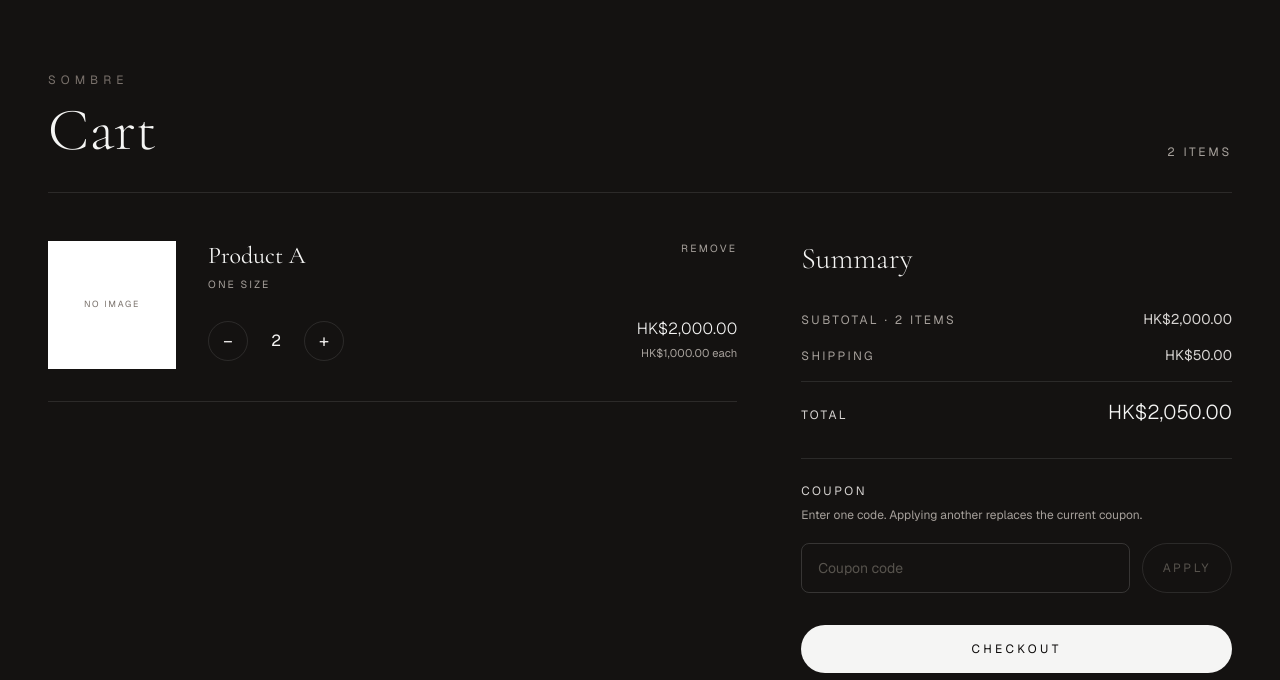
Test case: Cart coupon interface › removes the coupon and restores original cart totals
In the field labelled "Coupon code": (965, 568) [801, 543, 1130, 593], type "sombre"
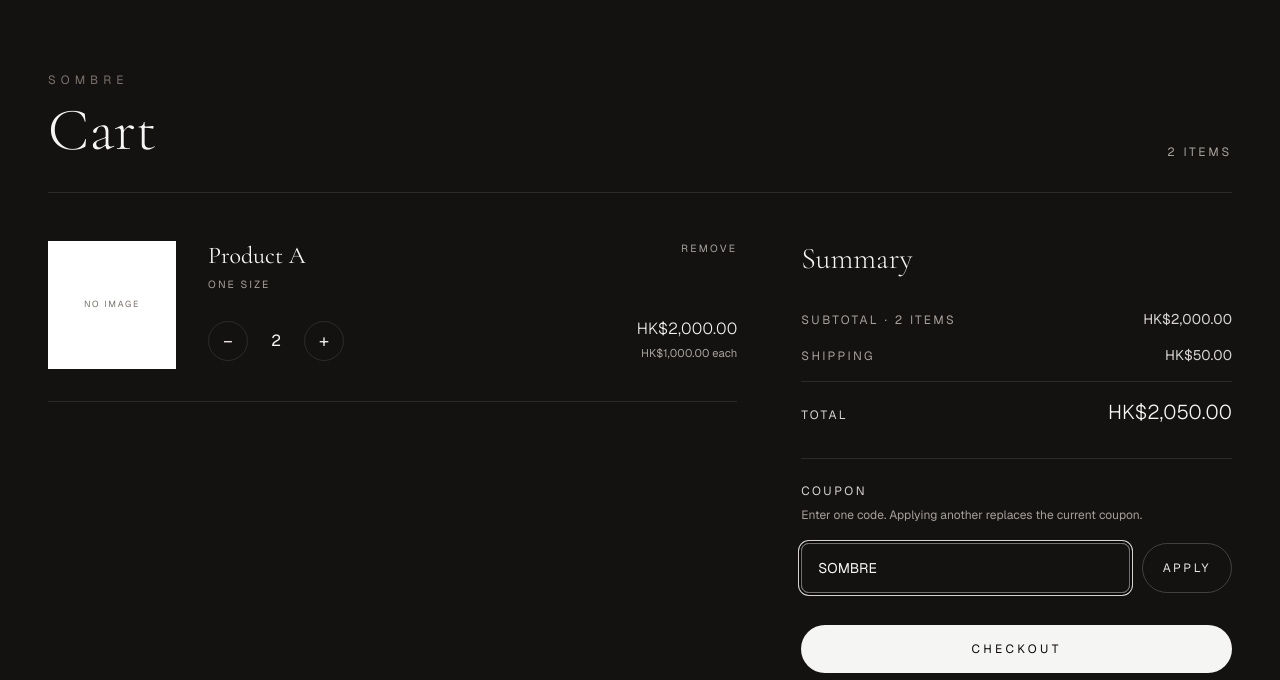
Click the button "Apply": click(1187, 568) [1142, 543, 1232, 593]
(page scrolled)
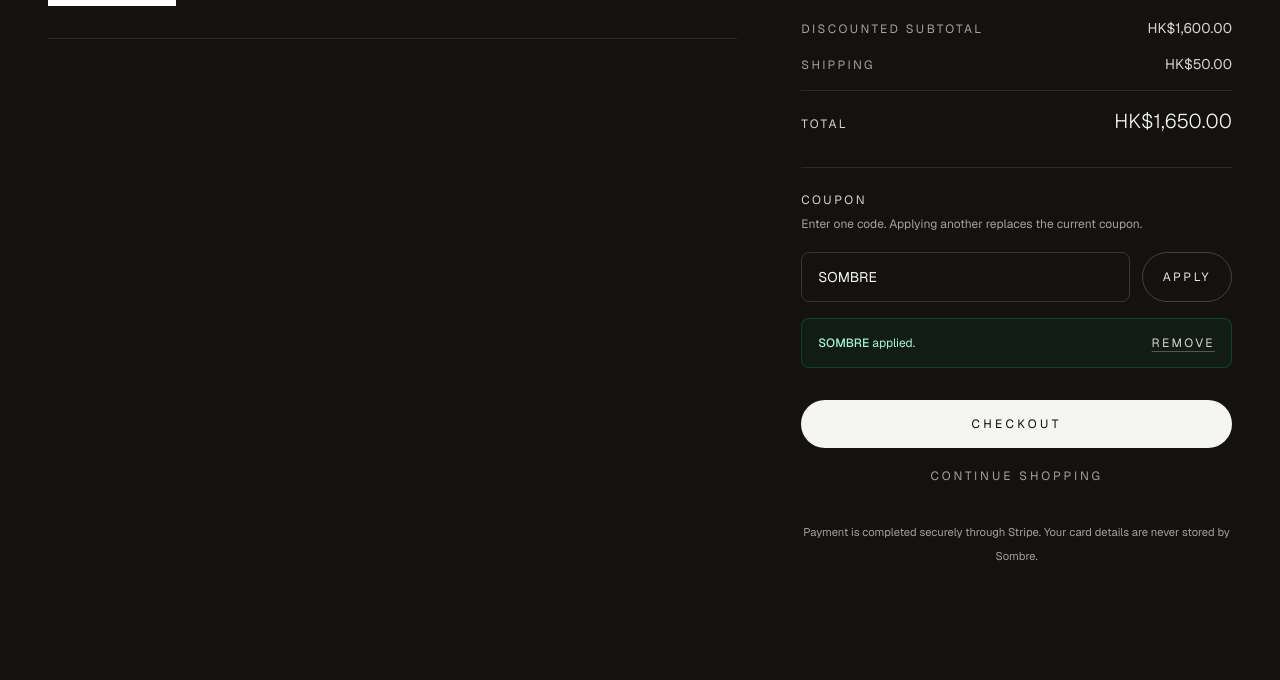
Click the button with aria-label "Remove SOMBRE coupon": click(1183, 343) [1152, 335, 1215, 351]
(page scrolled)
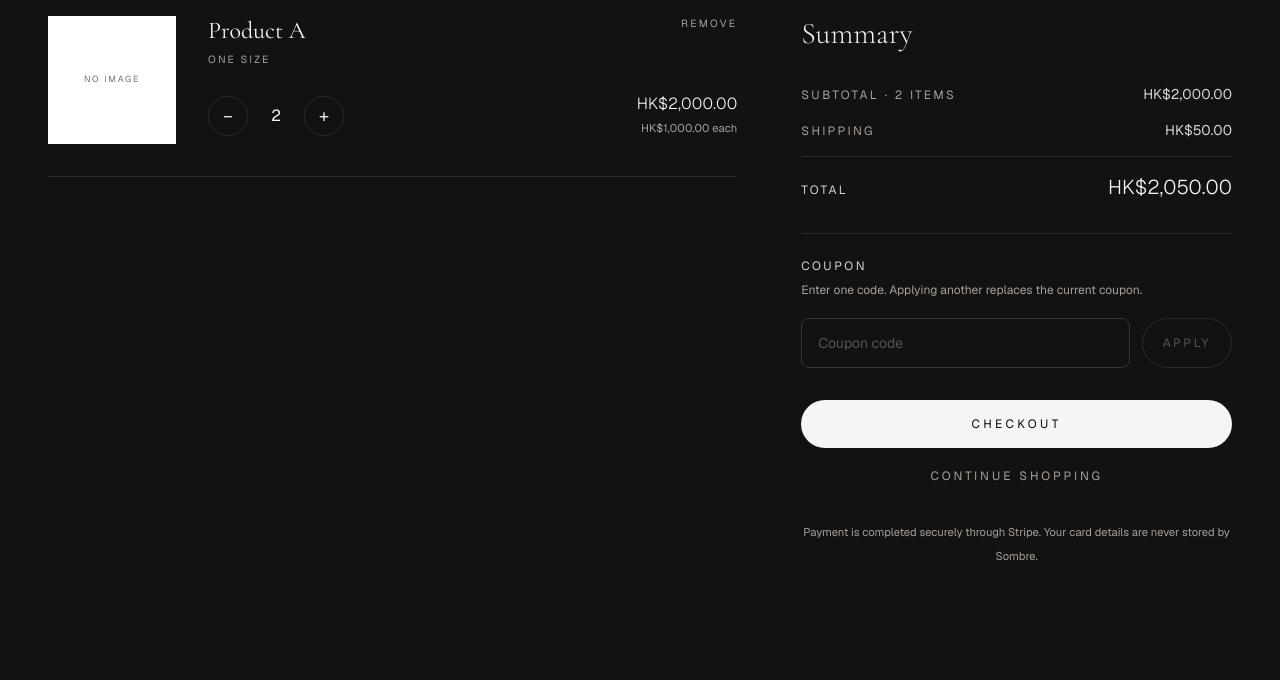
expect the text "Subtotal · 2 items" is shown: met, box [801, 87, 956, 103]
expect the text "HK$2,050.00" is shown: met, box [1108, 173, 1232, 201]
